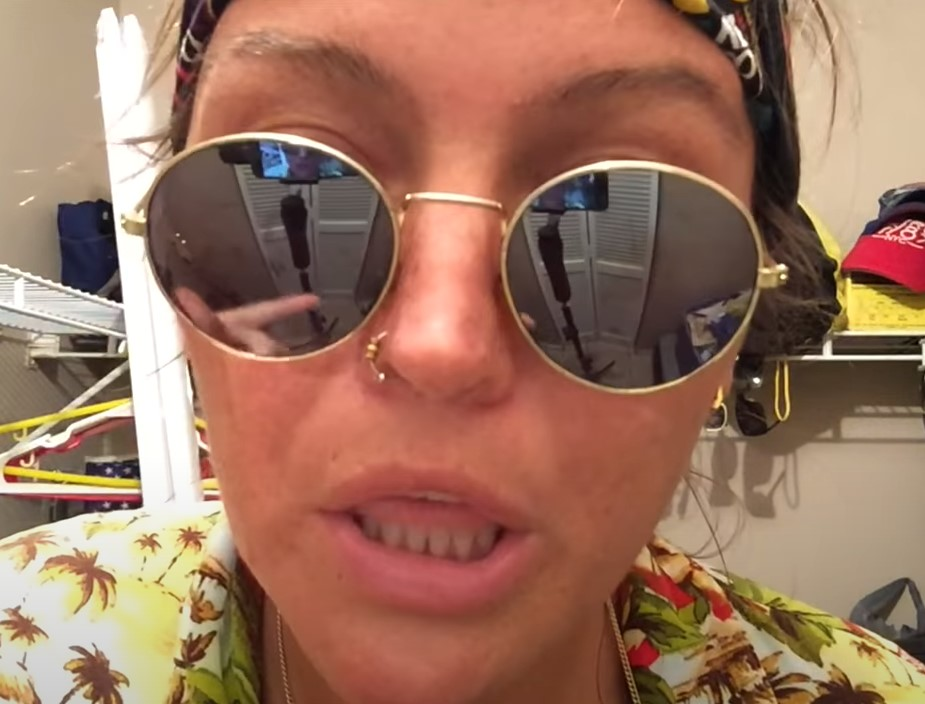face_no_mask: (175, 1, 757, 675)
